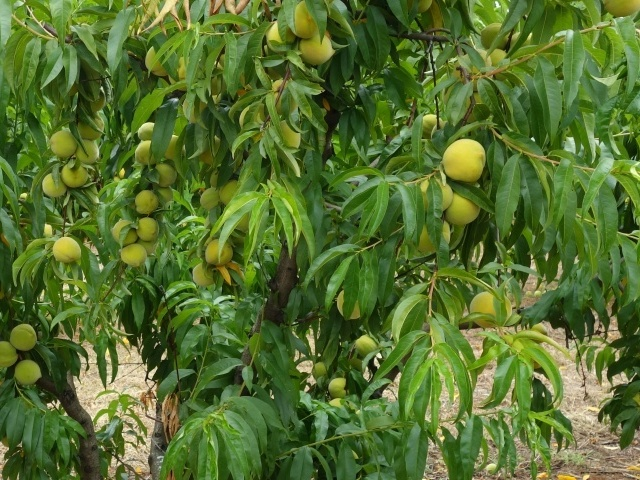peach: (439, 136, 490, 187), (465, 287, 514, 331), (281, 0, 324, 43), (410, 176, 457, 214), (413, 216, 455, 258), (294, 27, 336, 68), (443, 187, 483, 228), (265, 77, 303, 119), (332, 283, 364, 325), (476, 18, 514, 53), (262, 16, 293, 58), (50, 234, 85, 270), (141, 40, 172, 80), (6, 320, 41, 355), (200, 235, 236, 269), (46, 127, 80, 162), (37, 167, 71, 201), (11, 358, 44, 390), (109, 215, 142, 247), (58, 161, 92, 192), (176, 93, 207, 126), (188, 259, 221, 290), (70, 135, 102, 165), (118, 240, 149, 270), (132, 215, 162, 246), (417, 112, 448, 142), (78, 111, 109, 140), (81, 87, 112, 116), (131, 187, 162, 216), (482, 43, 513, 72), (131, 137, 161, 166), (352, 331, 380, 362), (161, 131, 187, 164), (195, 183, 223, 213), (217, 176, 247, 204), (150, 159, 178, 186), (134, 120, 162, 147), (324, 375, 351, 401), (148, 181, 176, 204), (309, 355, 331, 383), (326, 392, 348, 414)
